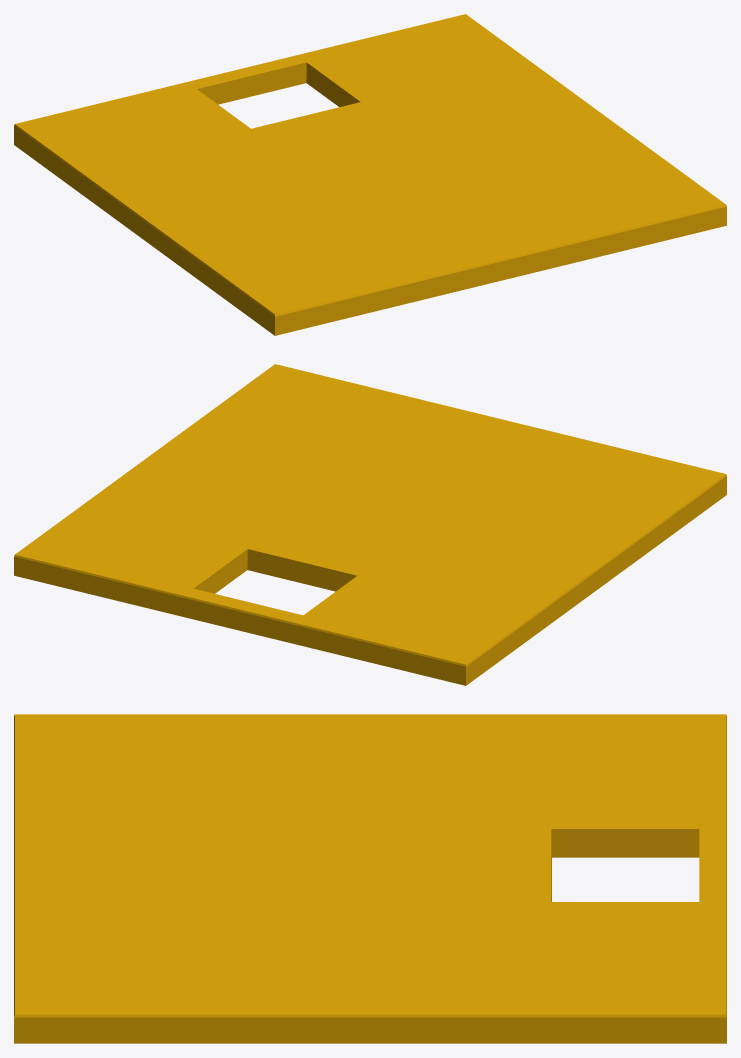
Rendered from Move_Game_SliderHole_04.fbx.
3 renders of one model, top to bottom at view 1: azimuth 30°, elevation 25°; view 2: azimuth 150°, elevation 25°; view 3: azimuth 270°, elevation 25°, orthographic. The views are drawn at different scales.
Visible parts, largest first — view 1: Move_Game_SliderHole_04; view 2: Move_Game_SliderHole_04; view 3: Move_Game_SliderHole_04.
Part boxes in pixels (<box>): Move_Game_SliderHole_04: <box>14,14,726,335</box>; Move_Game_SliderHole_04: <box>14,364,726,685</box>; Move_Game_SliderHole_04: <box>14,714,726,1043</box>.
Bounding box in the file's own units: 17.29 × 0.7676 × 17.29.
